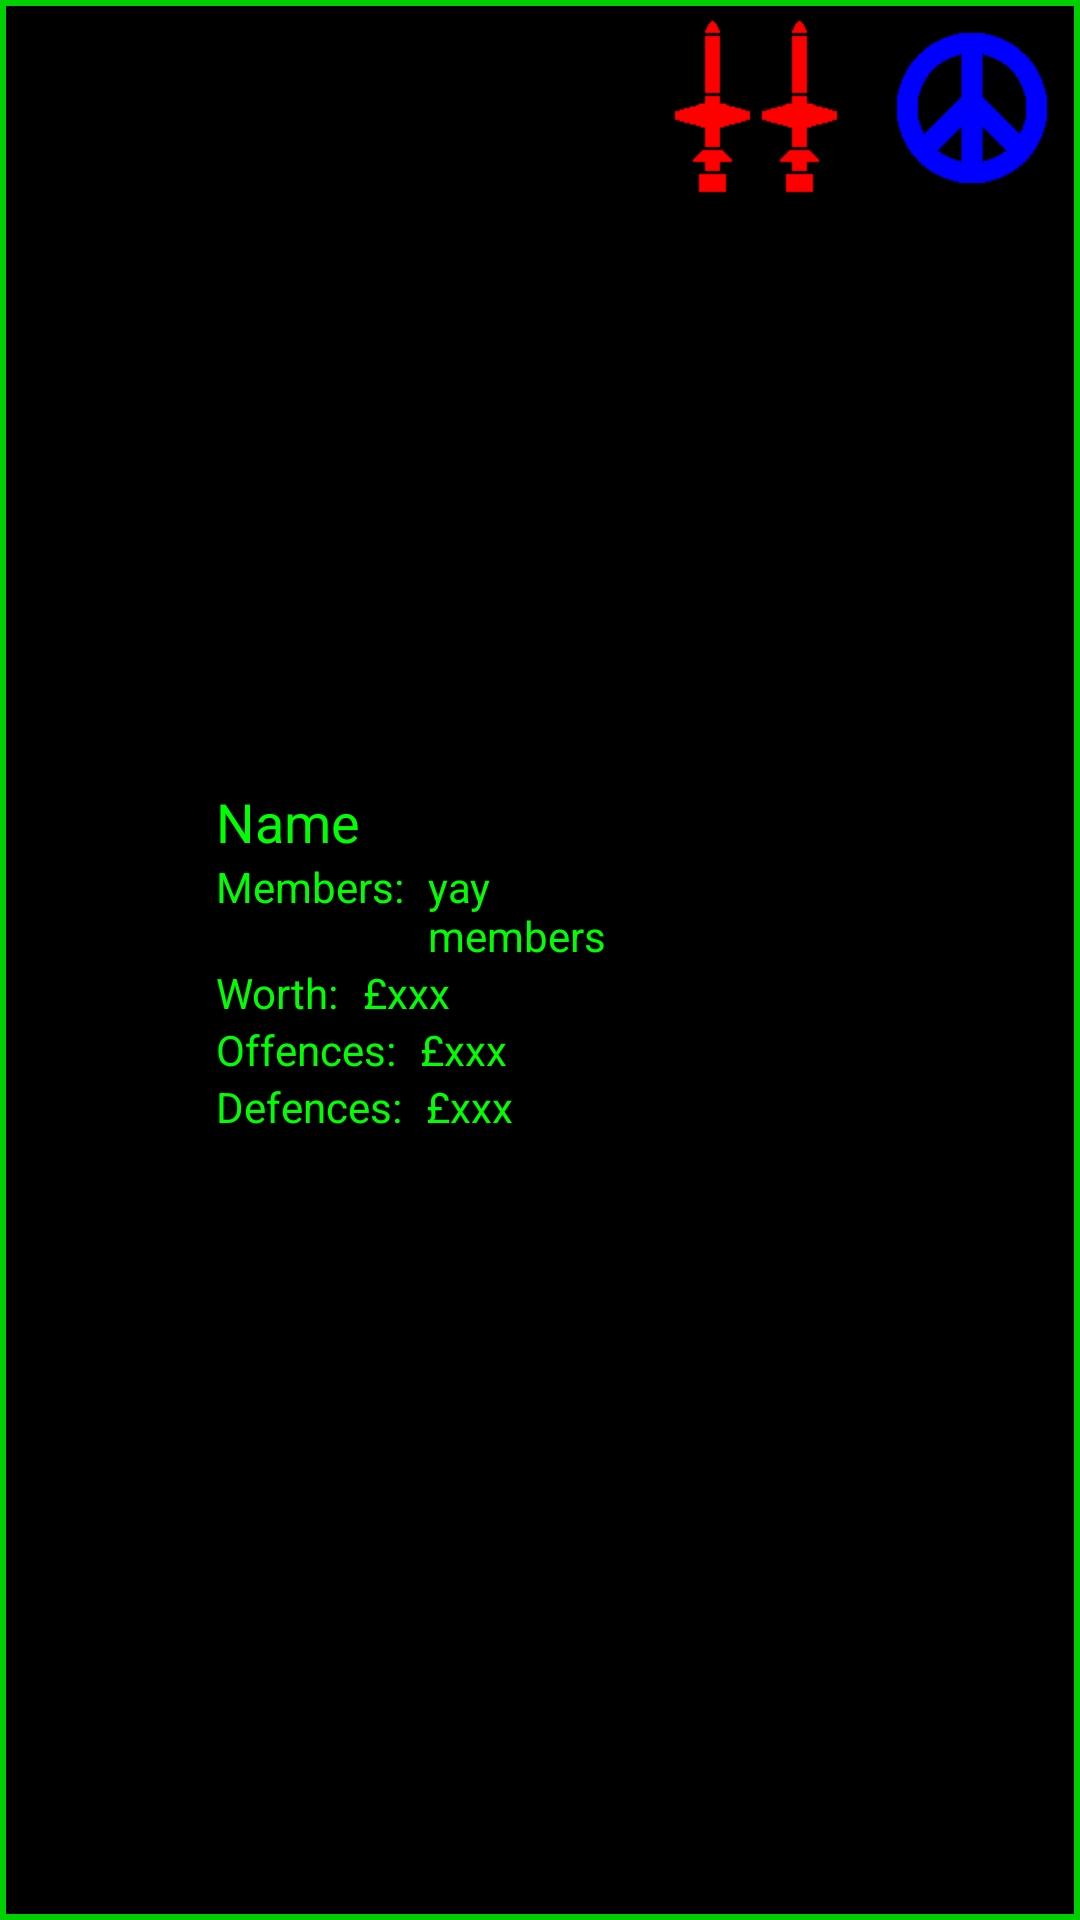

Icons on this 1080×1920 Android screen, each with the point to tap as point (x, y):
declare war: point (756, 106)
propose affiliation: point (972, 108)
